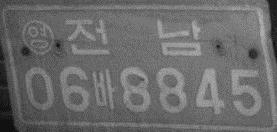0: (24, 67, 54, 112)
4: (194, 67, 224, 113)
5: (229, 68, 262, 116)
6: (58, 65, 90, 112)
8: (154, 66, 187, 113), (119, 65, 151, 113)
바: (92, 69, 116, 109)
영: (20, 19, 54, 56)
전남_D: (63, 16, 202, 57)
